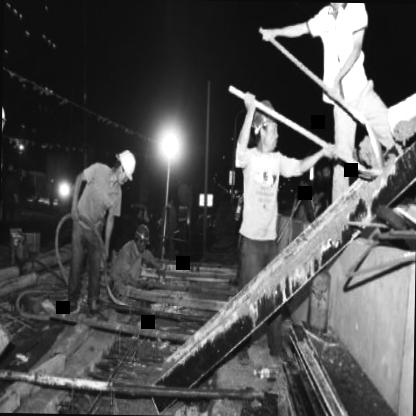helmet: (250, 104, 280, 151), (112, 147, 136, 188), (132, 222, 152, 254), (1, 99, 9, 144)
